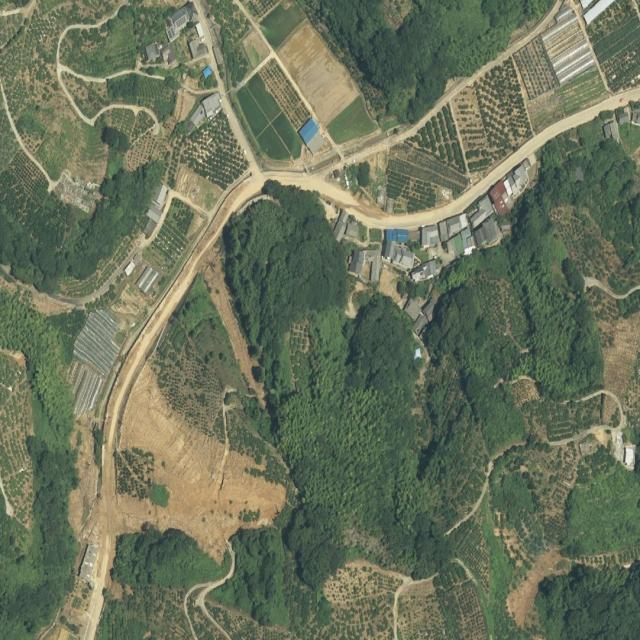landslide: (115, 363, 286, 562)
